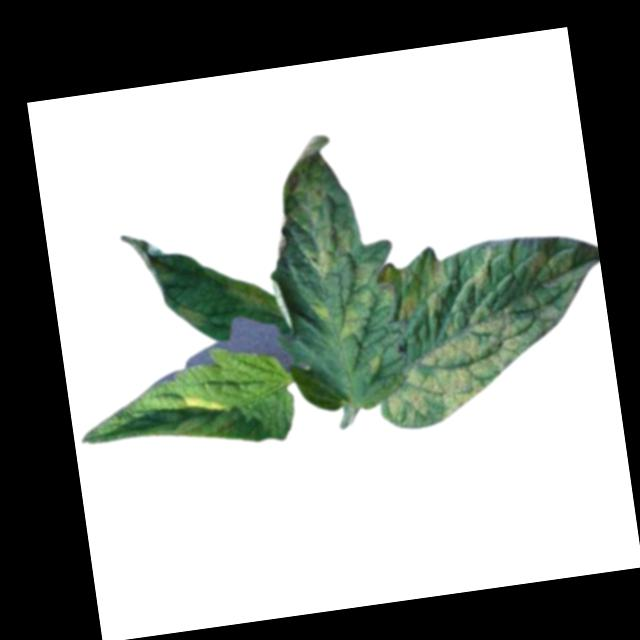Leaf_Mold: (360, 229, 617, 433), (271, 131, 360, 283), (311, 293, 367, 342), (183, 388, 229, 417), (168, 295, 206, 330)
